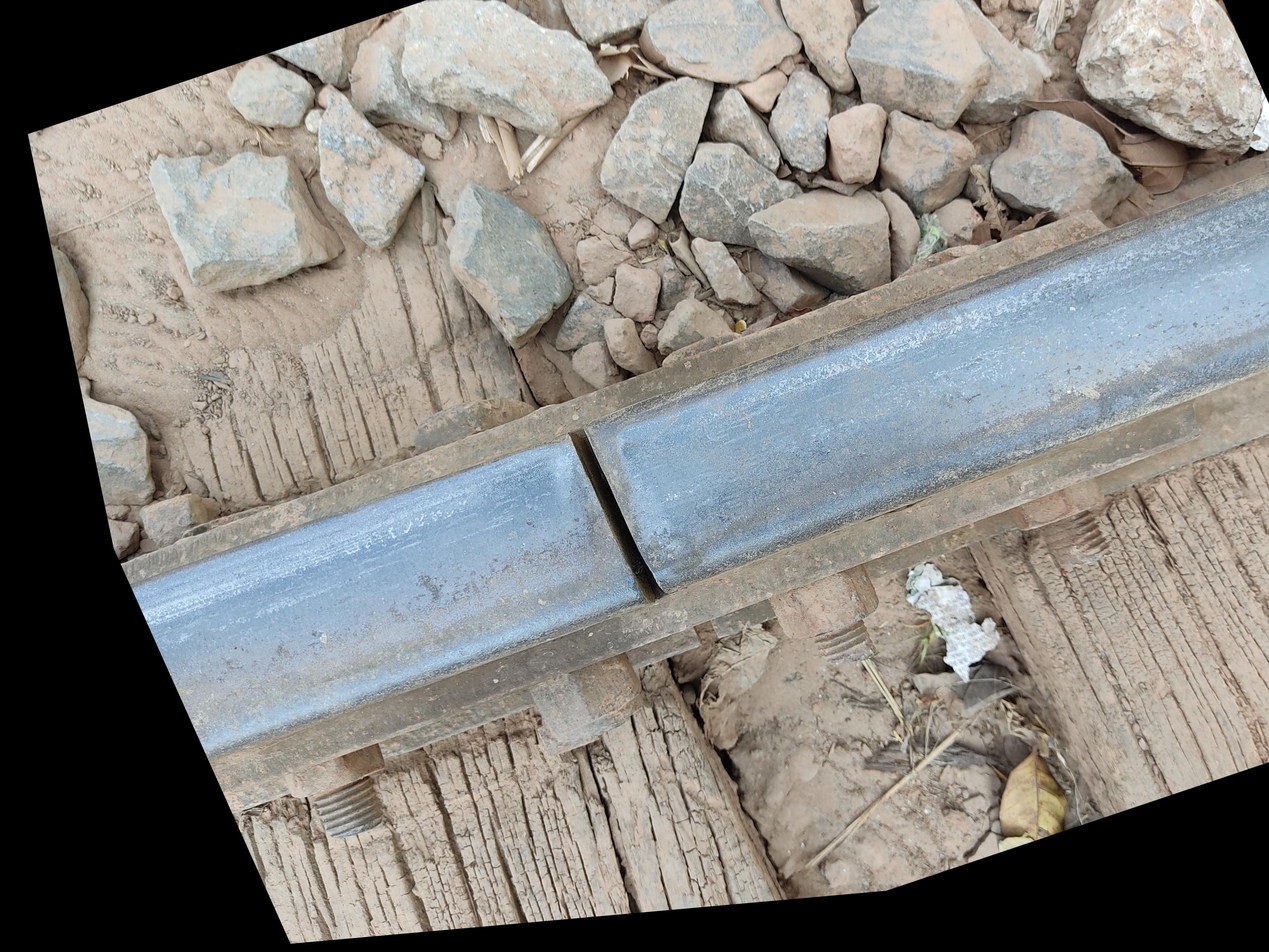person: (346, 508, 709, 853)
